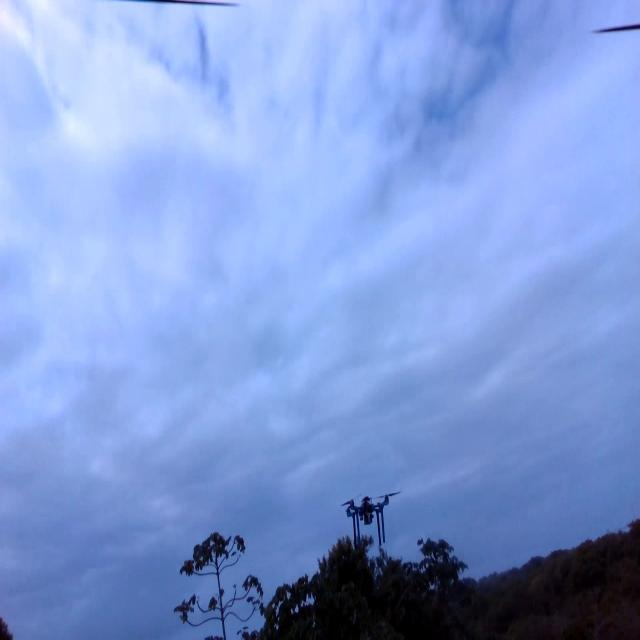-uav-: (329, 476, 409, 557)
